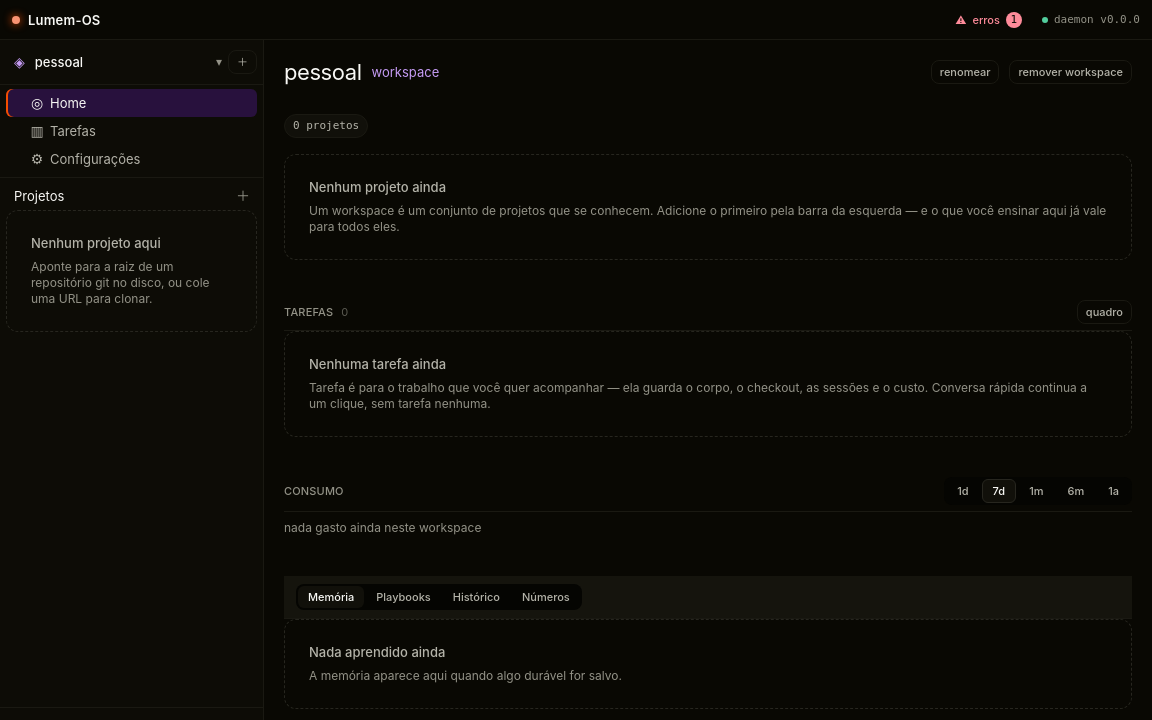
add project › shows exactly which validation the daemon refused
Click the button named "adicionar projeto" at (243, 196), box [231,184,255,208]
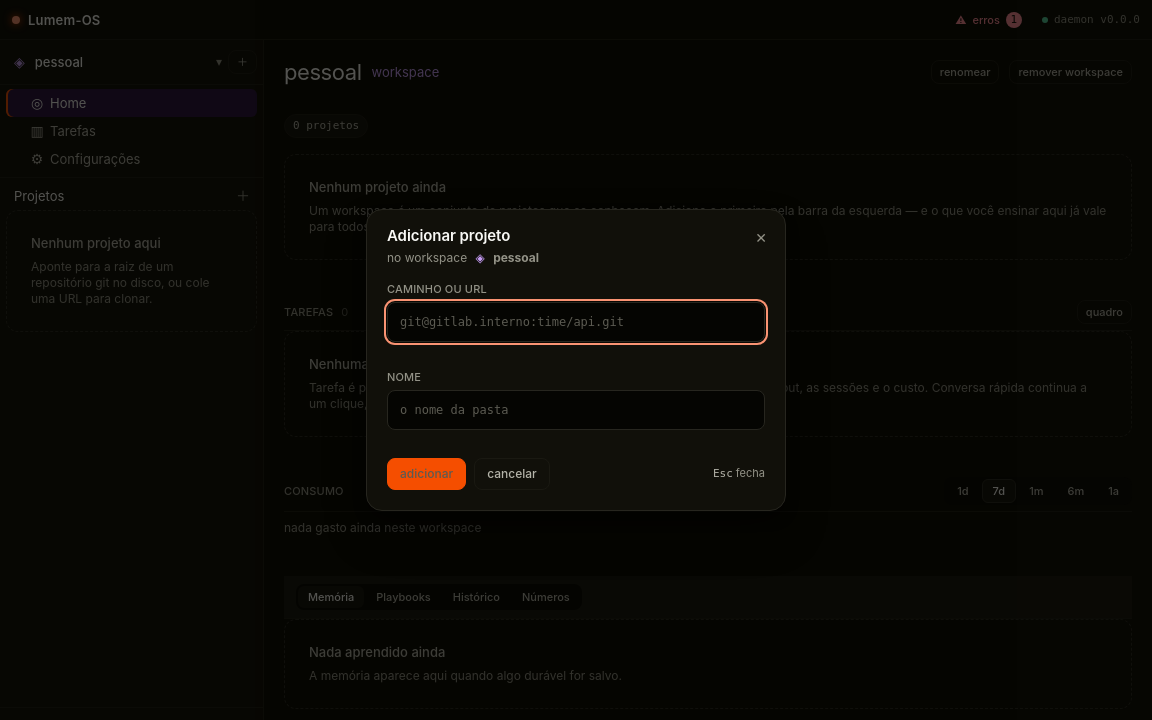
Type "/repos/x" into the field labelled "Caminho ou URL" at (576, 322), box [387,302,765,342]
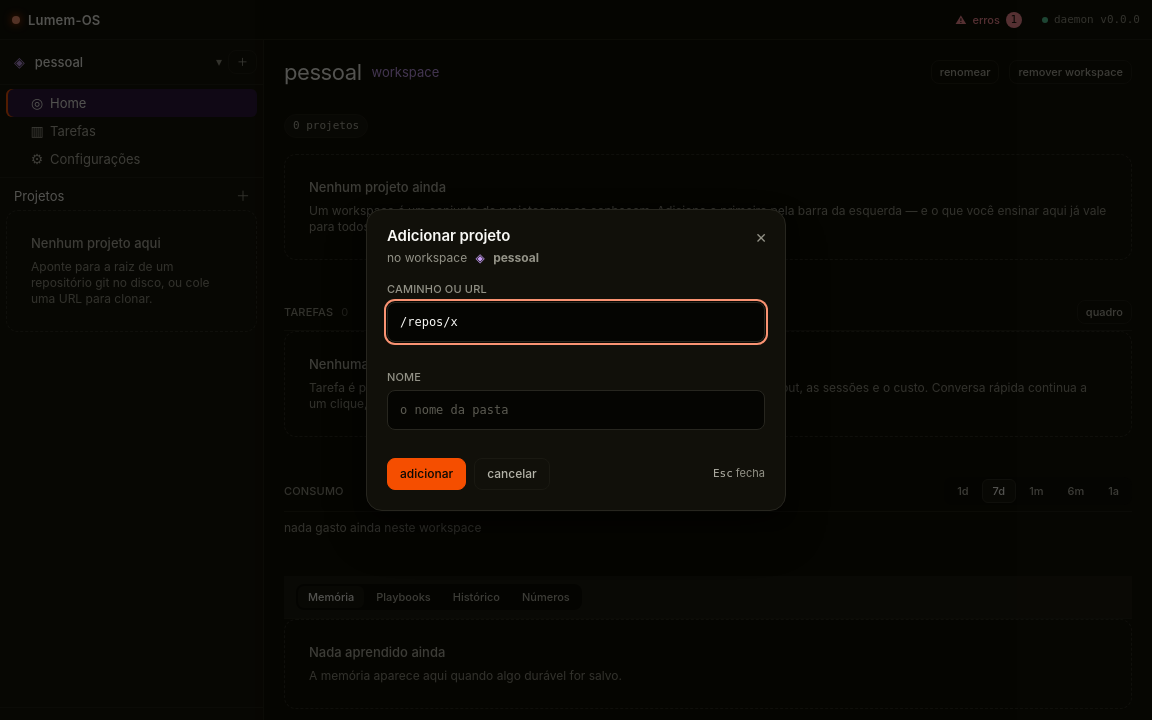
Click the button "adicionar" at (427, 474), box [387,458,466,490]
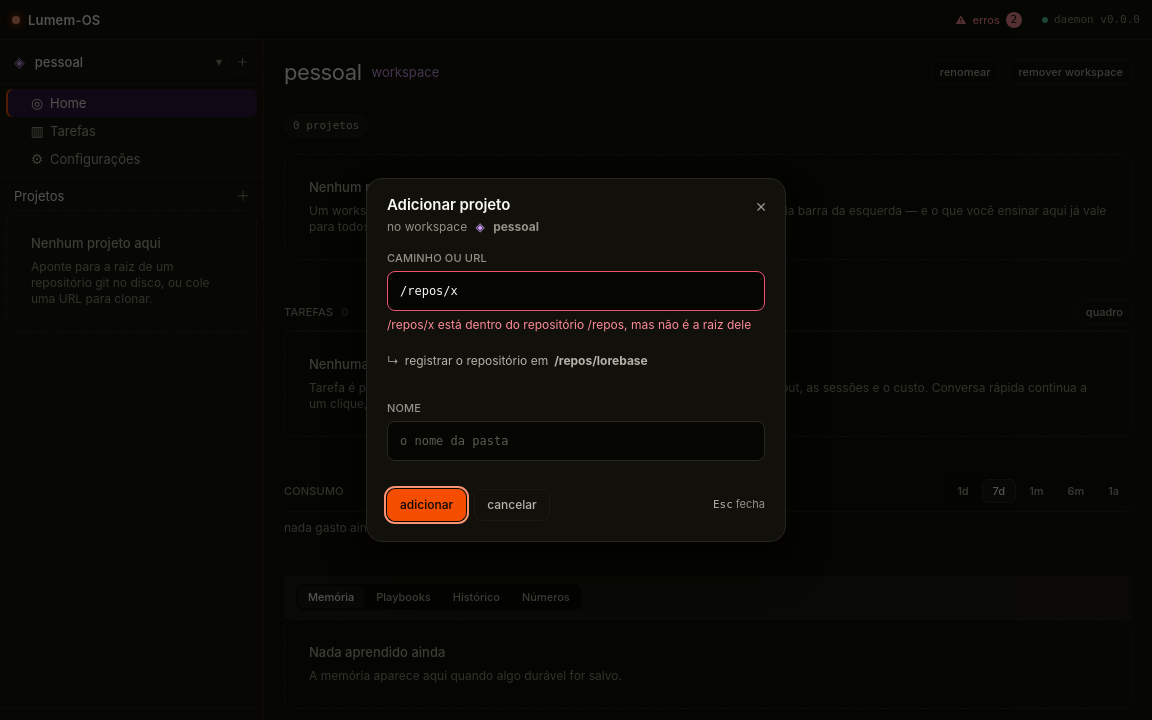
Result: the message shows "não é a raiz dele" at [387,317,751,332]
